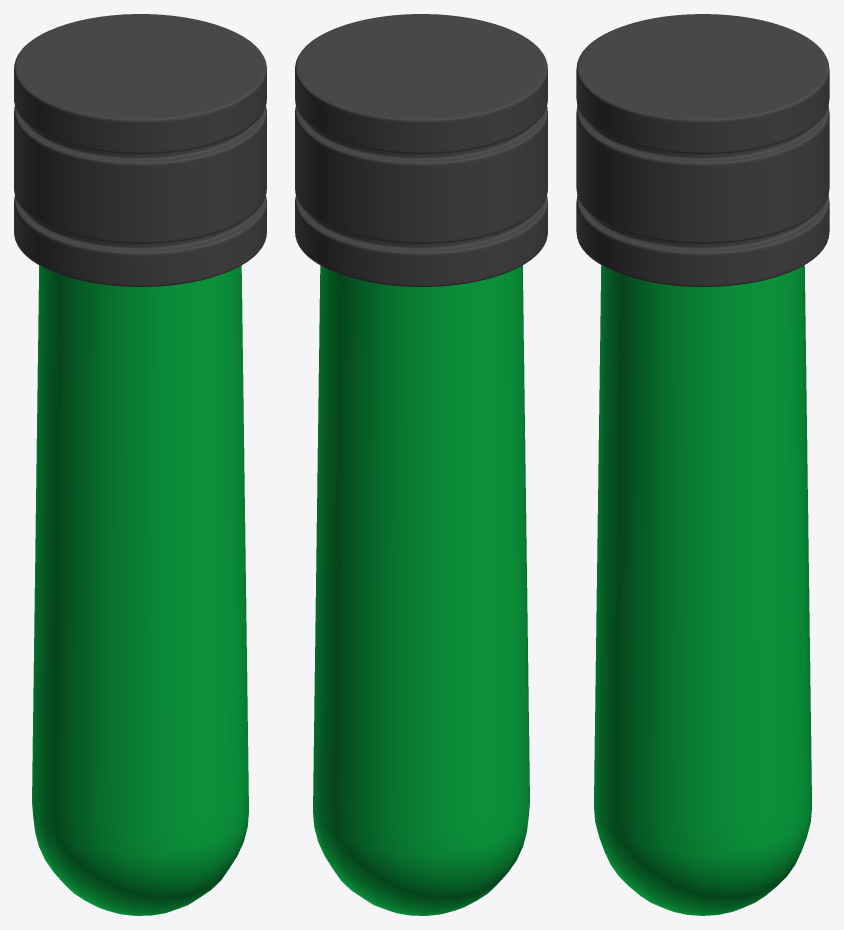
File: greenvile.fbx
The picture shows the model from 3 angles, left to right: view 1: azimuth 30°, elevation 25°; view 2: azimuth 150°, elevation 25°; view 3: azimuth 270°, elevation 25°; orthographic projection.
Parts seen in each view (by area): view 1: pSphere1, polySurface3; view 2: pSphere1, polySurface3; view 3: pSphere1, polySurface3.
Boxes of the visible parts, bbox=[...] form: pSphere1: bbox=[32, 265, 248, 915]; polySurface3: bbox=[14, 14, 266, 286]; pSphere1: bbox=[313, 265, 529, 915]; polySurface3: bbox=[295, 14, 547, 286]; pSphere1: bbox=[594, 265, 811, 915]; polySurface3: bbox=[576, 14, 829, 286].
Size of the model in its own units: 6.84 by 25.02 by 6.84.
